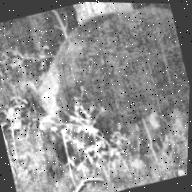boar: (16, 0, 192, 183)
